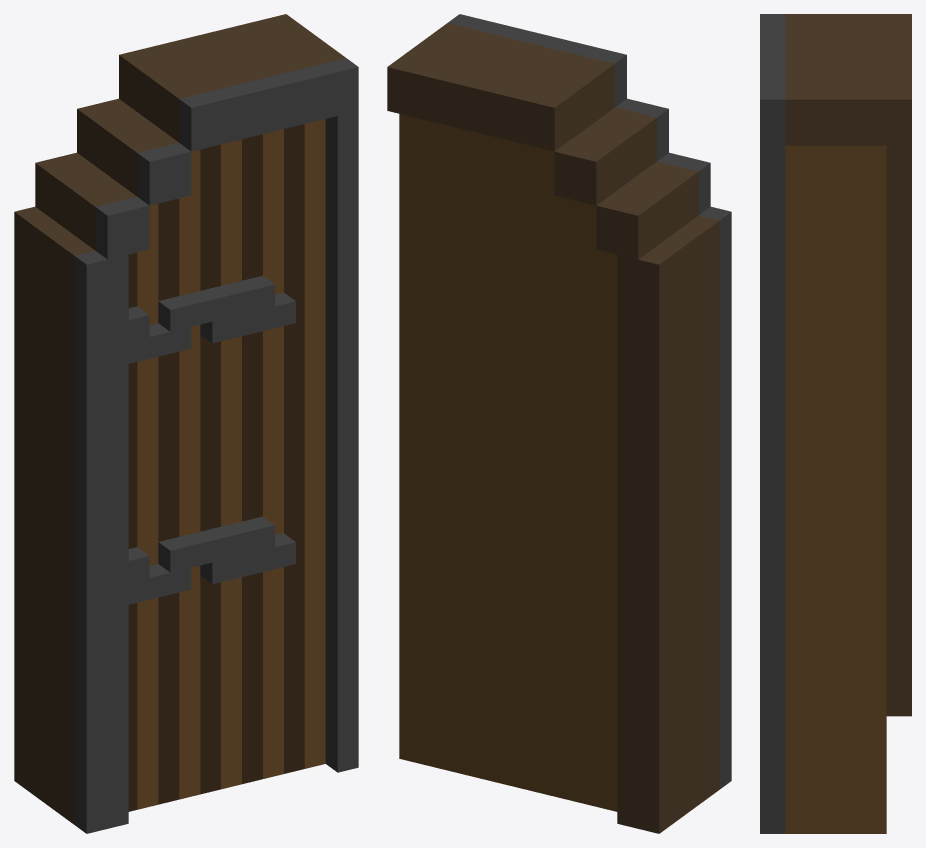
Rendered from Gate Door Left.obj.
The picture shows the model from 3 angles, left to right: view 1: azimuth 30°, elevation 25°; view 2: azimuth 150°, elevation 25°; view 3: azimuth 270°, elevation 25°; orthographic projection. The views are drawn at different scales.
Visible parts, largest first — view 1: Gate_Door_Left; view 2: Gate_Door_Left; view 3: Gate_Door_Left.
Part boxes in pixels (box(x1,y1,x2,y2)): Gate_Door_Left: box(14, 14, 358, 833); Gate_Door_Left: box(387, 14, 731, 833); Gate_Door_Left: box(760, 14, 911, 833).
Bounding box in the file's own units: 13 × 32 × 6.
1 material, 1 textured.
